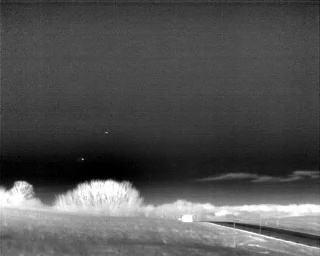BIRD: (102, 129, 110, 137)
